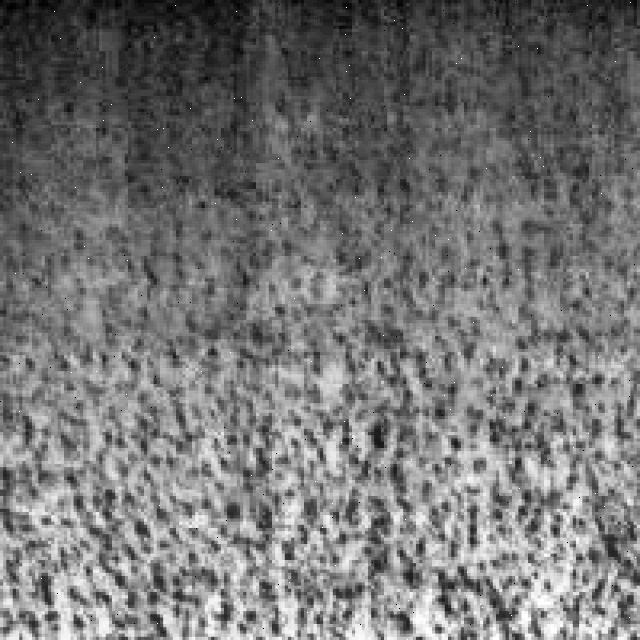Rolled_in_Scale: (3, 179, 640, 637)
